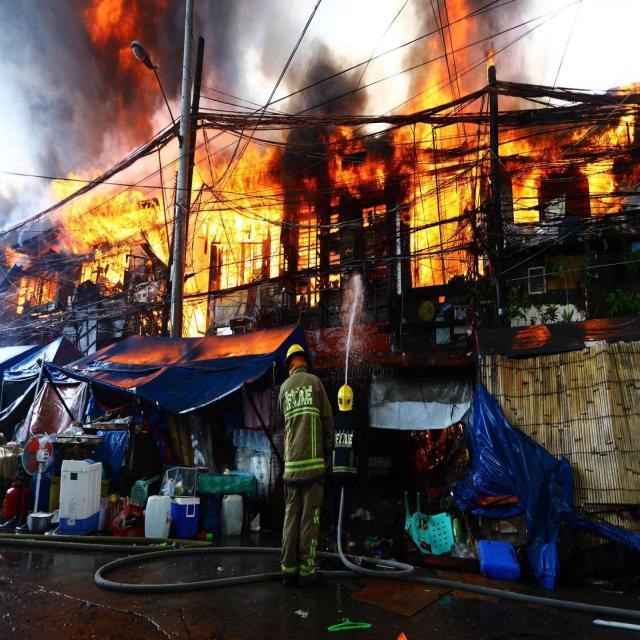Fire: (398, 2, 489, 286), (184, 150, 283, 330), (56, 176, 170, 290), (98, 0, 158, 136), (571, 108, 640, 221), (497, 126, 545, 225), (327, 118, 391, 192), (294, 210, 326, 312)
Smoke: (0, 0, 100, 173), (160, 0, 248, 103), (288, 51, 337, 182)
